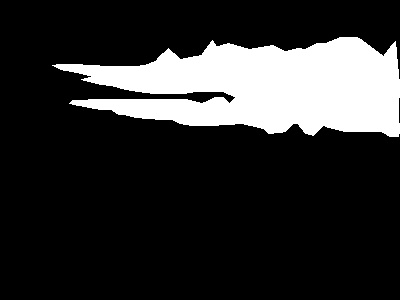Fire: (52, 39, 400, 136)
